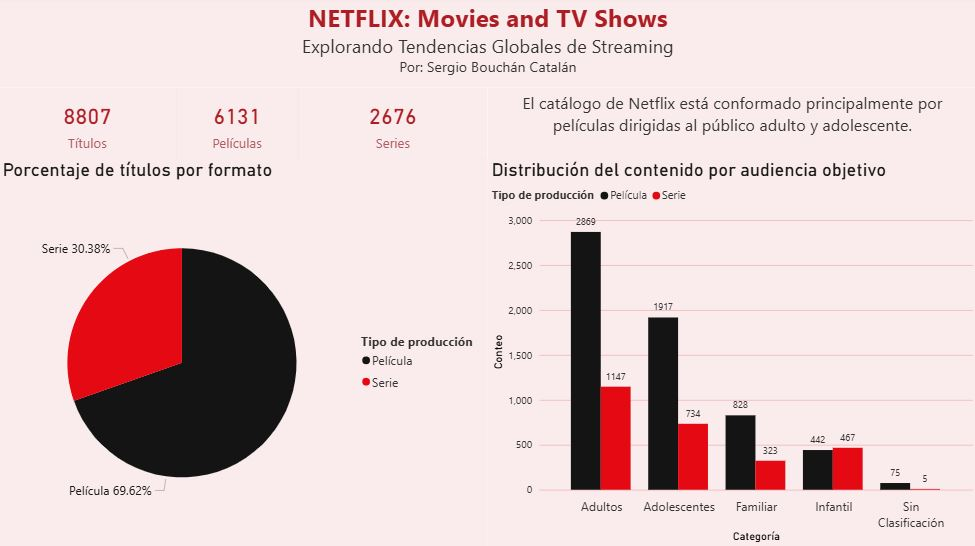

The page's visual inventory and layout, read from the dashboard file:
{"tool":"powerbi","page":{"name":"Contenido","canvas":[1280,720],"ordinal":0},"visuals":[{"type":"textbox","box":[0,0,1280,120],"z":0},{"type":"card","fields":{"Values":["CountNonNull(Netflix_2.show_id)"]},"box":[0,120,231.7,93.3],"z":1000},{"type":"card","fields":{"Values":["Netflix_2.Películas"]},"box":[231.7,120,160,93.3],"z":2000},{"type":"card","fields":{"Values":["Netflix_2.Serie"]},"box":[391.7,120,248.3,93.3],"z":3000},{"type":"pieChart","title":"Porcentaje de títulos por formato","fields":{"Category":["Netflix_2.type"],"Y":["CountNonNull(Netflix_2.show_id)"]},"box":[0,213.3,640,506.7],"z":4000},{"type":"clusteredColumnChart","title":"Distribución del contenido por audiencia objetivo","fields":{"Category":["Netflix_2.Category"],"Series":["Netflix_2.type"],"Y":["CountNonNull(Netflix_2.show_id)"]},"box":[640,213.3,640,506.7],"z":5000},{"type":"textbox","box":[640,120,640,93.3],"z":6000}]}

Visuals, with their boxes in screenshot pixels (x1, y1, x2, y2), scaled from the page's 1280x720 canvas onto the 975x546 screenshot:
textbox: (0,0,974,91)
card - CountNonNull(Netflix_2.show_id): (0,91,176,162)
card - Netflix_2.Películas: (176,91,298,162)
card - Netflix_2.Serie: (298,91,488,162)
"Porcentaje de títulos por formato" pieChart: (0,162,488,545)
"Distribución del contenido por audiencia objetivo" clusteredColumnChart: (488,162,974,545)
textbox: (488,91,974,162)
